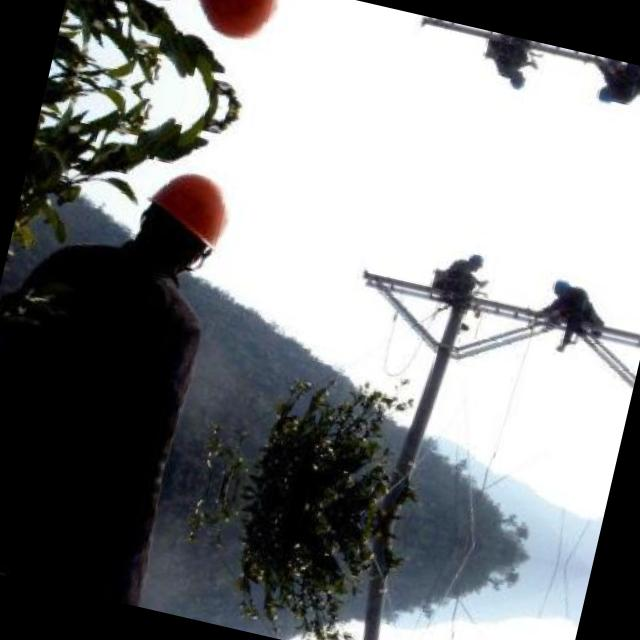helmet: (120, 152, 244, 288), (172, 0, 288, 56), (547, 273, 576, 299), (591, 81, 620, 107), (504, 64, 529, 92), (462, 247, 487, 274)
